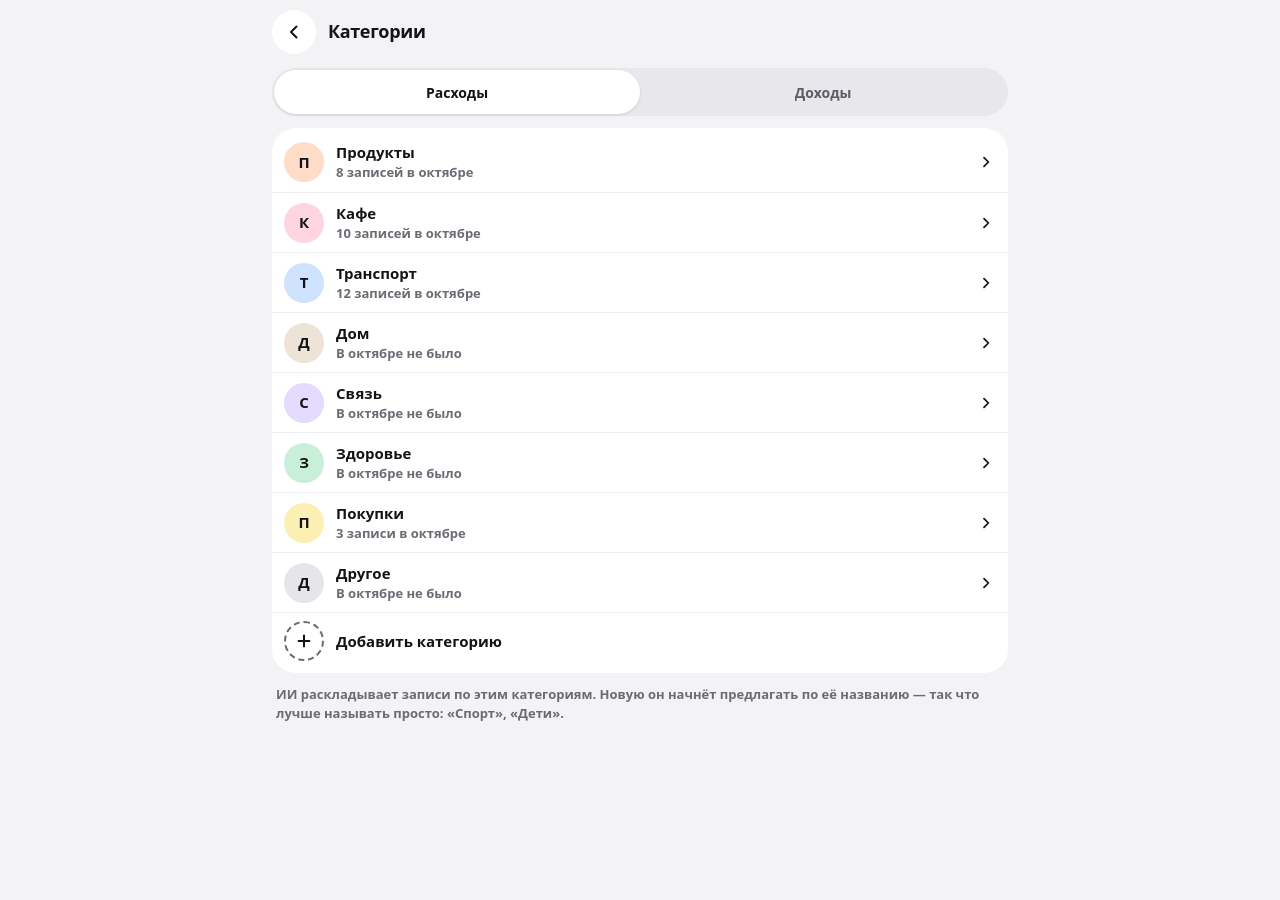
Test: «Категория «Кафе»»: the edit applies when the sheet closes › opening a sheet writes nothing and it stays open (React’s development check unmounts it once)
The width and height of the screenshot is (1280, 900).
Step 1. Click the button "К Кафе 10 записей в октябре" → (304, 222), box [272,192,1008,252]
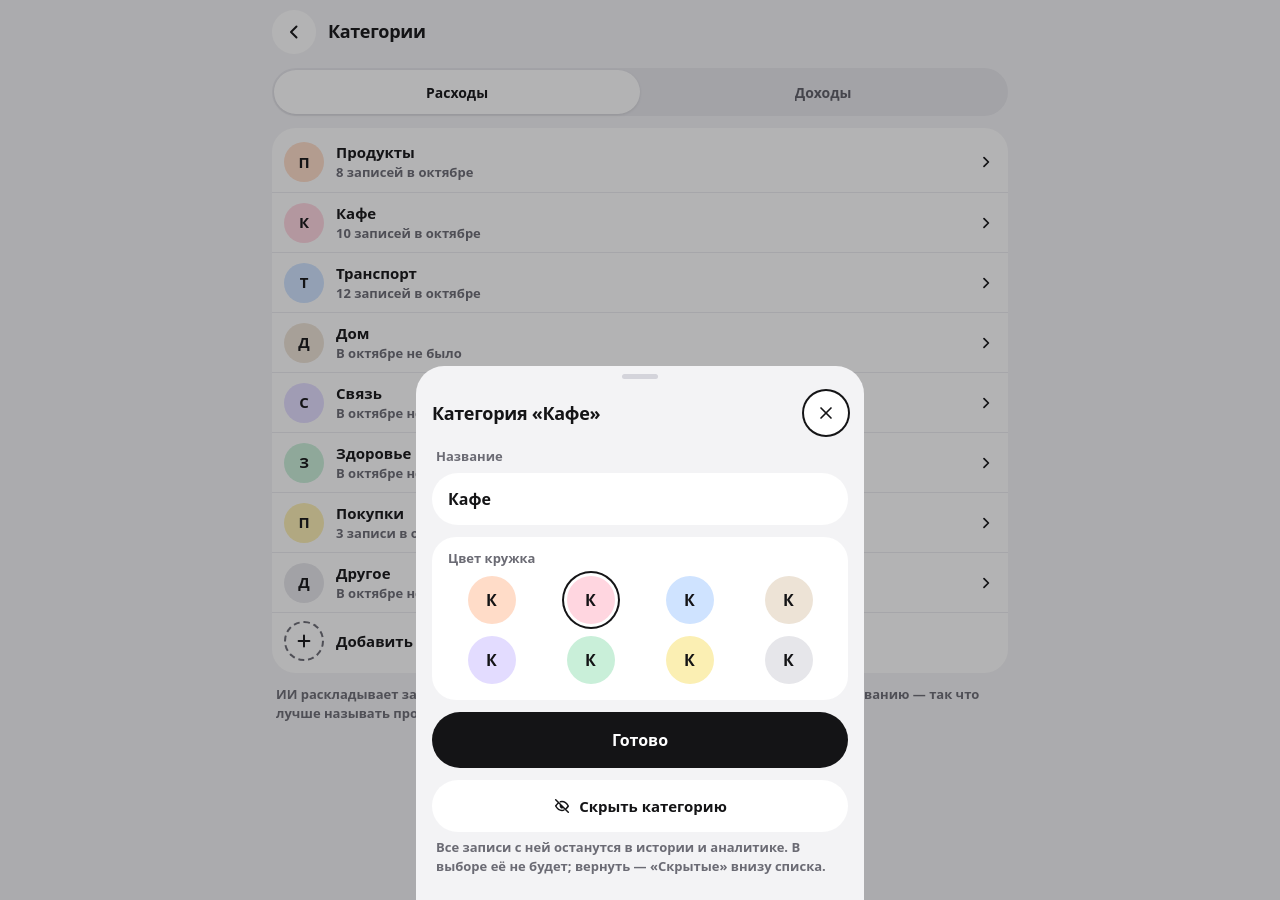
Check: the dialog is shown, box [416,366,864,899]
